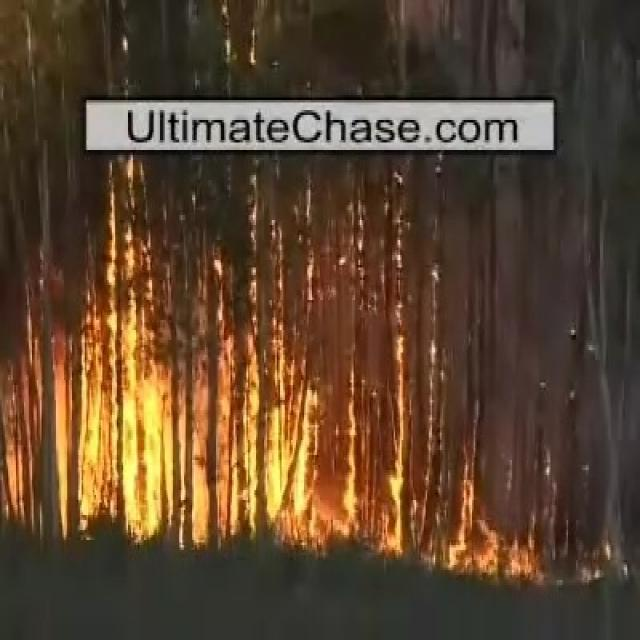fire: (122, 363, 173, 525), (80, 366, 118, 506)
